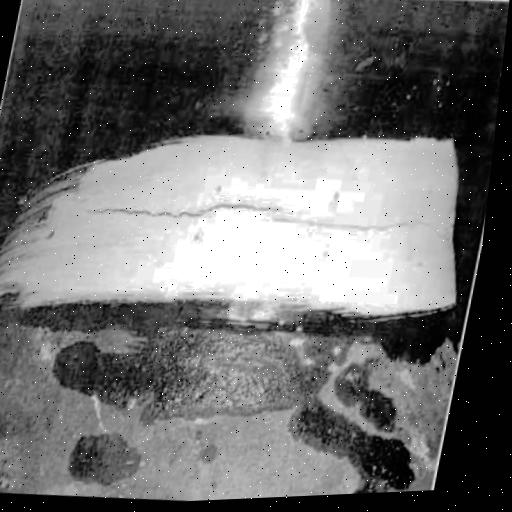crack: (79, 169, 454, 256)
